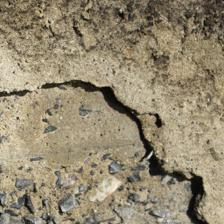Crack: (3, 77, 210, 221)
